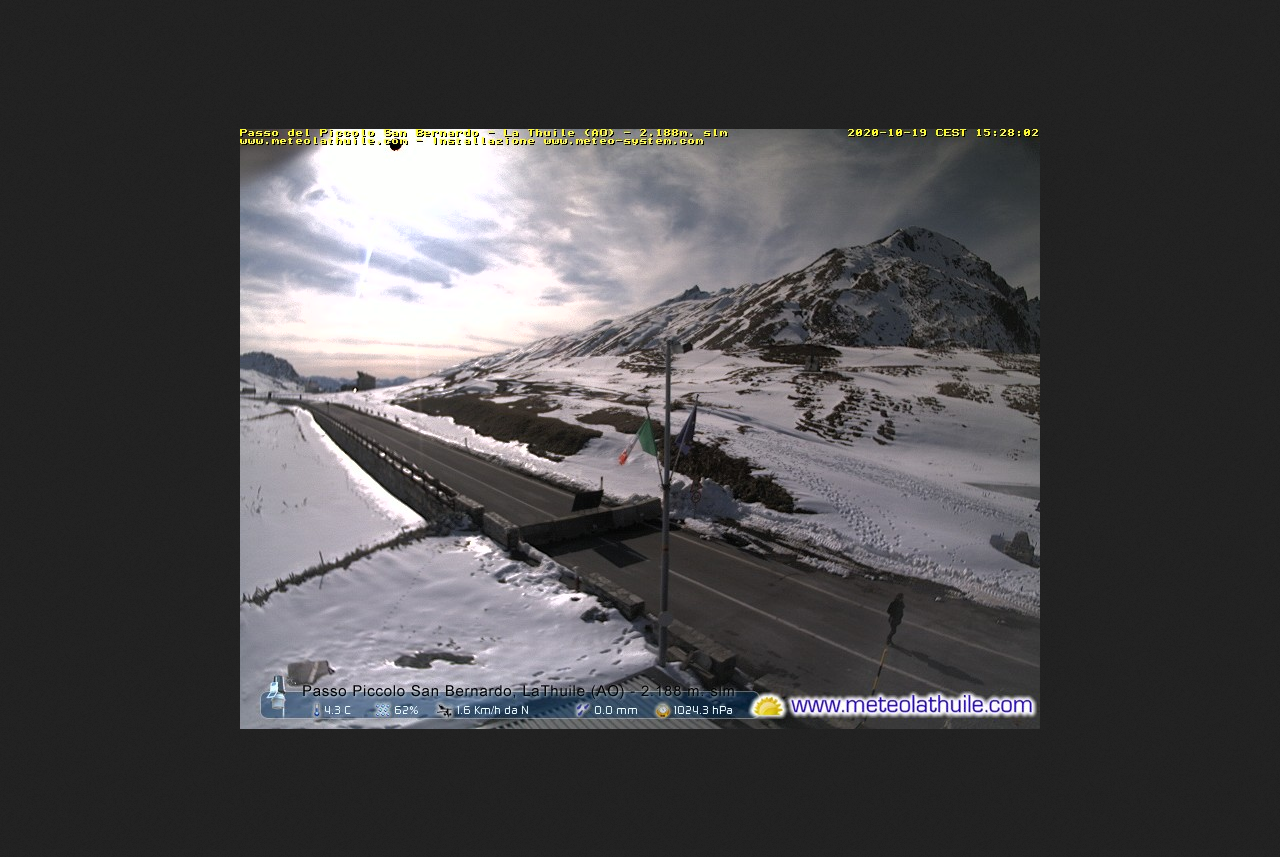maybe: (618, 417, 657, 468), (677, 408, 703, 453)
